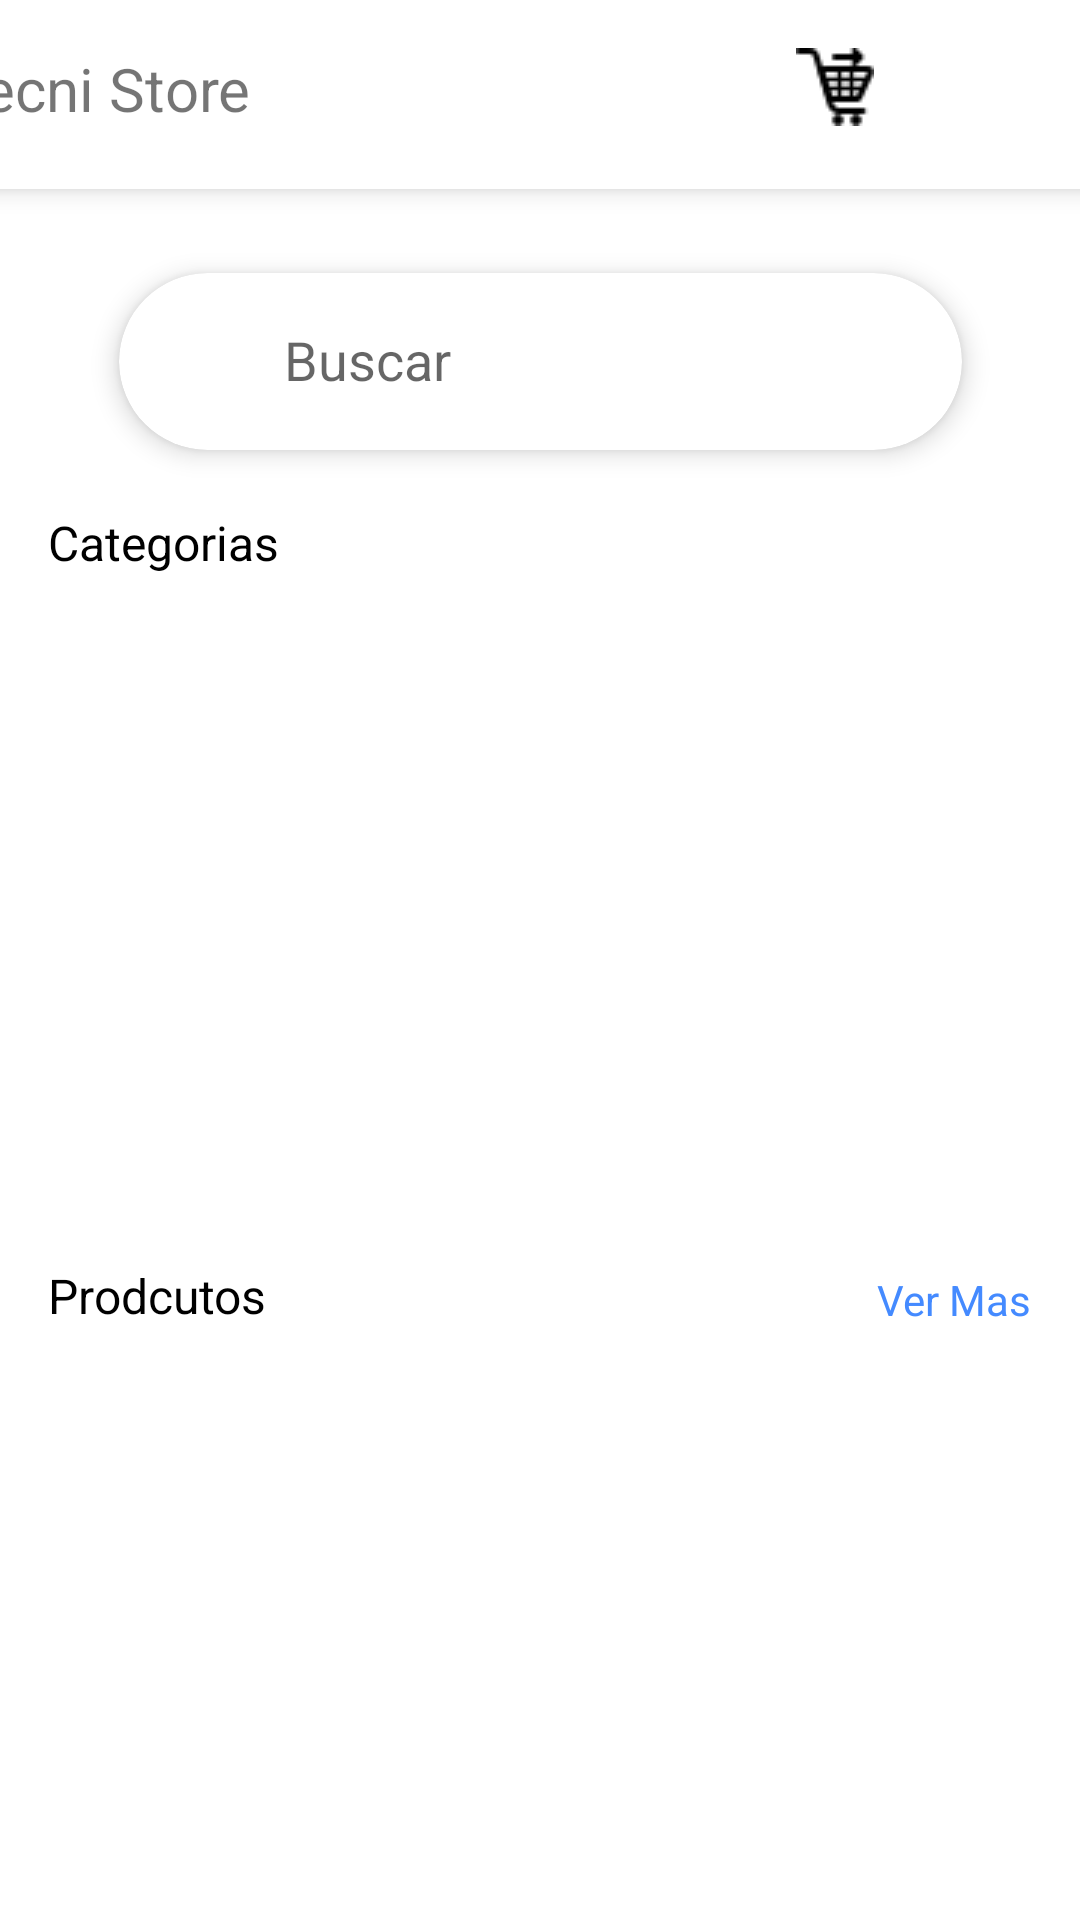

Icon bounding boxes for this 1080w x 1920h phone screenshot, format (x1, y1, x2, y2):
carrito compras: (796, 48, 874, 126)
